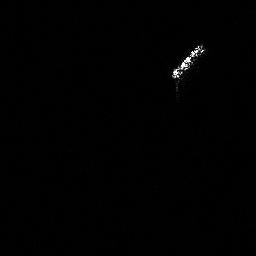ship: (171, 43, 205, 97)
